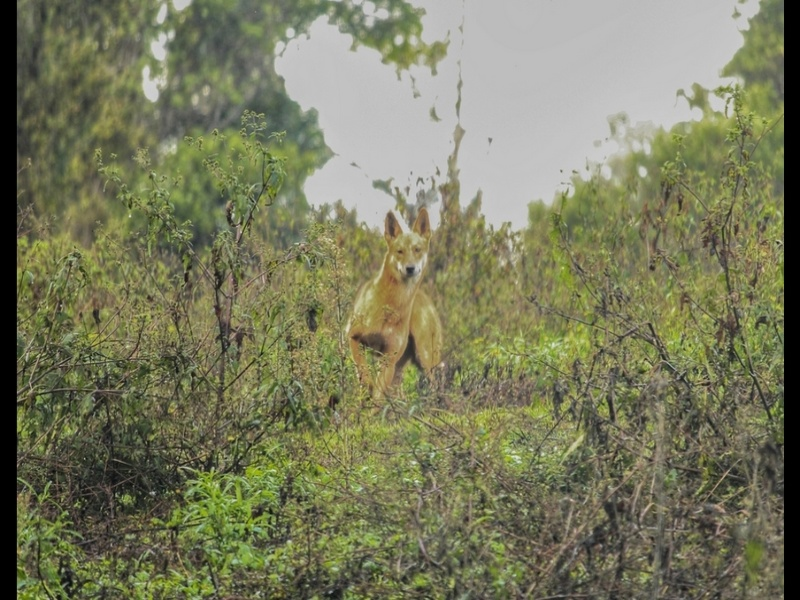dog: (339, 205, 448, 413)
